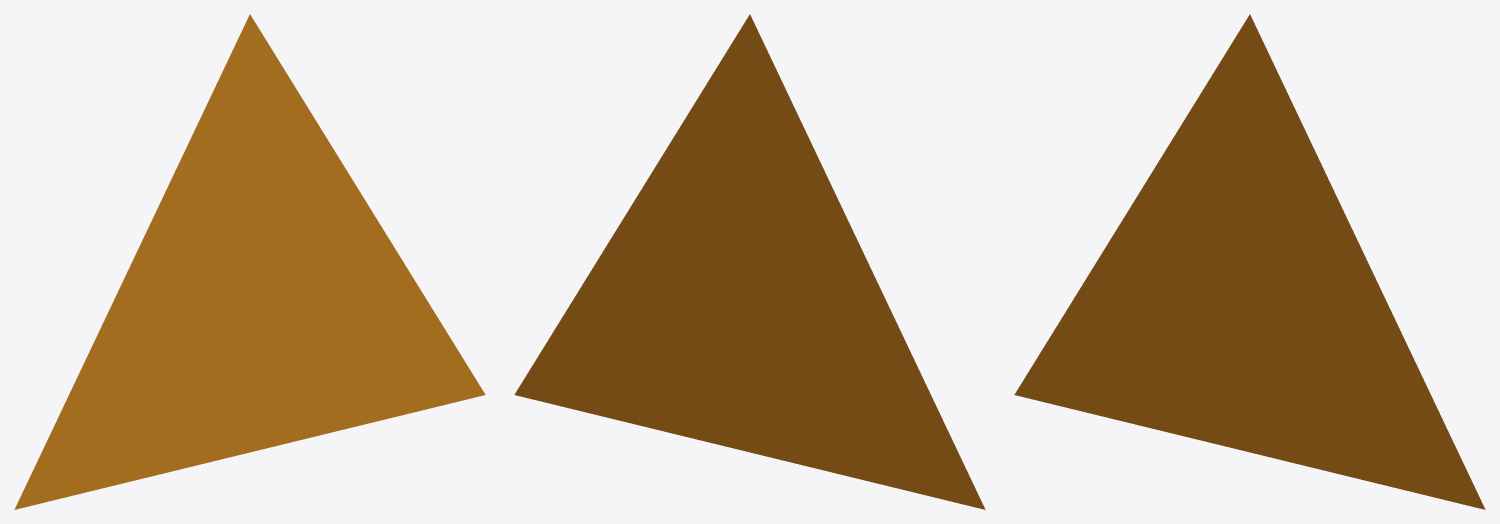
File: pbr.glb
3 views of the same model, side by side, from view 1: azimuth 30°, elevation 25°; view 2: azimuth 150°, elevation 25°; view 3: azimuth 330°, elevation 25° (orthographic).
Size of the model in its own units: 1.8 by 1.6 by 0.
Materials: 1 (1 with a texture image).
